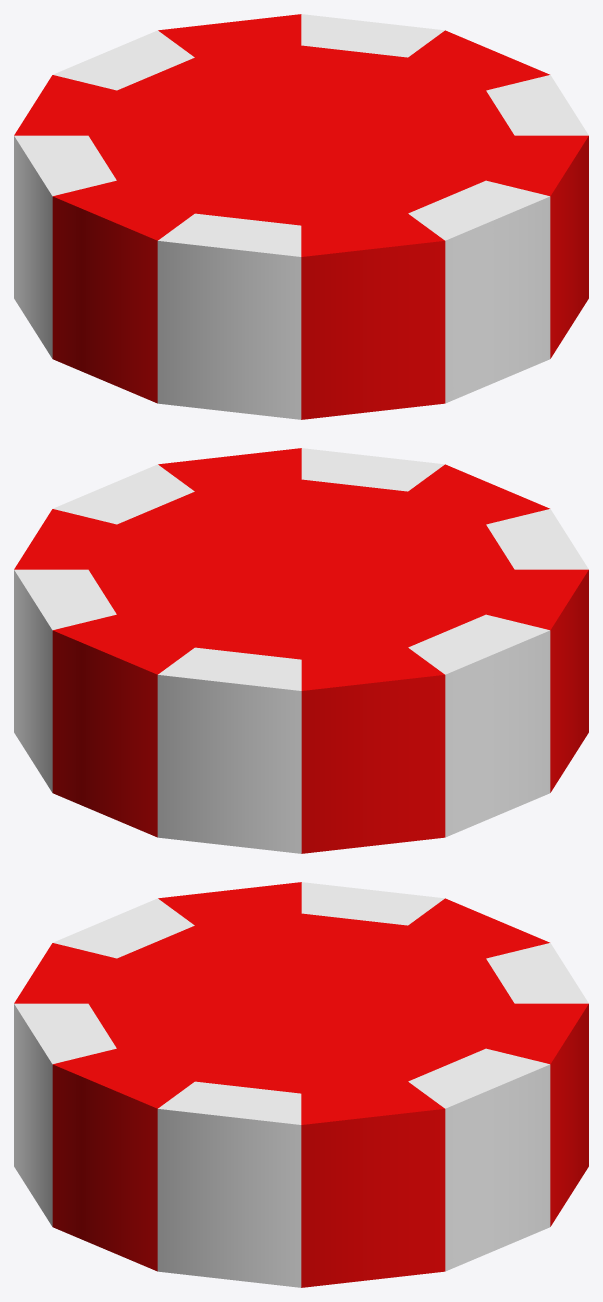
Rendered from Poker Chip Red.FBX.
3 views of the same model, one above another, from view 1: azimuth 30°, elevation 25°; view 2: azimuth 150°, elevation 25°; view 3: azimuth 270°, elevation 25° (orthographic).
Parts seen in each view (by area): view 1: Poker Chip Red; view 2: Poker Chip Red; view 3: Poker Chip Red.
Boxes of the visible parts, <box> form: Poker Chip Red: <box>14,14,588,419</box>; Poker Chip Red: <box>14,448,588,853</box>; Poker Chip Red: <box>14,882,588,1287</box>.
Bounding box in the file's own units: 0.016 × 0.005 × 0.016.
